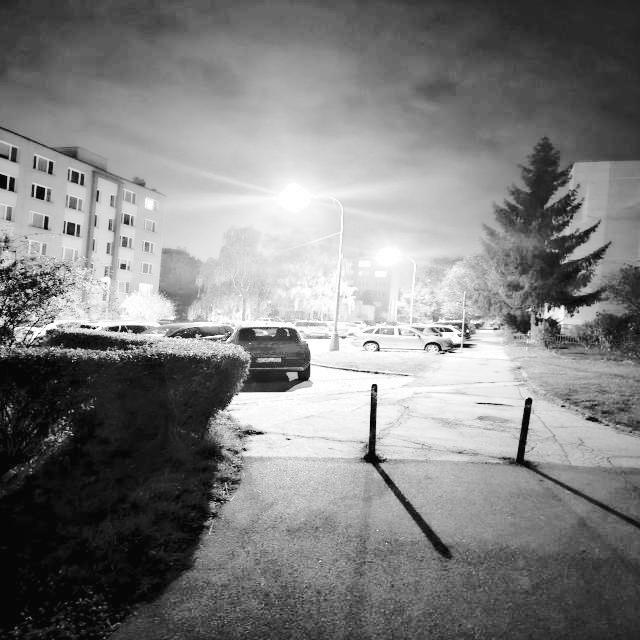Light: (286, 192, 345, 350), (382, 252, 417, 325)
